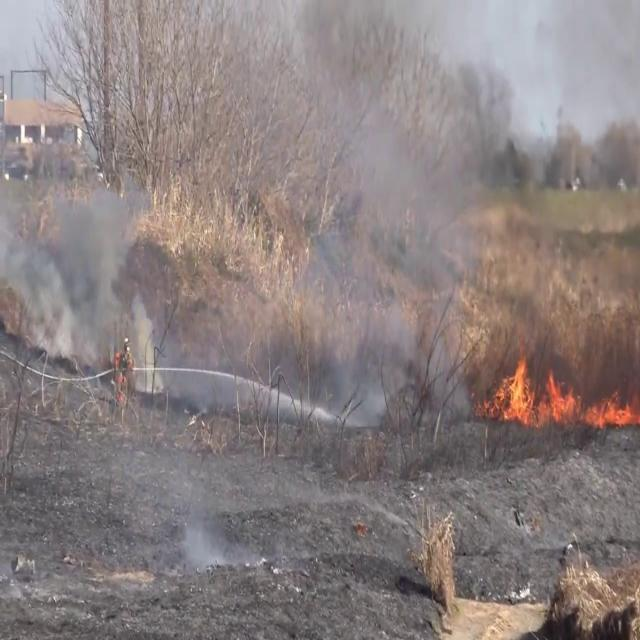Fire: (486, 348, 640, 433)
Smoke: (286, 104, 482, 440), (0, 162, 163, 380)
